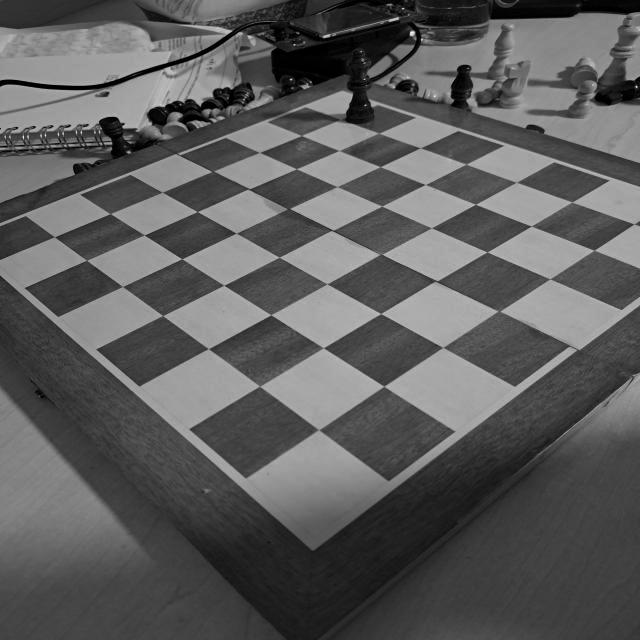chess-table-corners: (270, 508, 355, 562), (338, 88, 346, 95)
